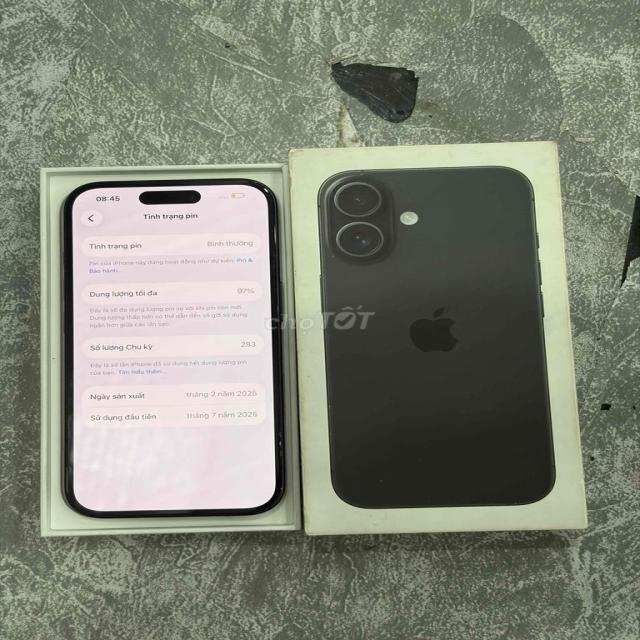gen_16: (62, 178, 284, 516)
